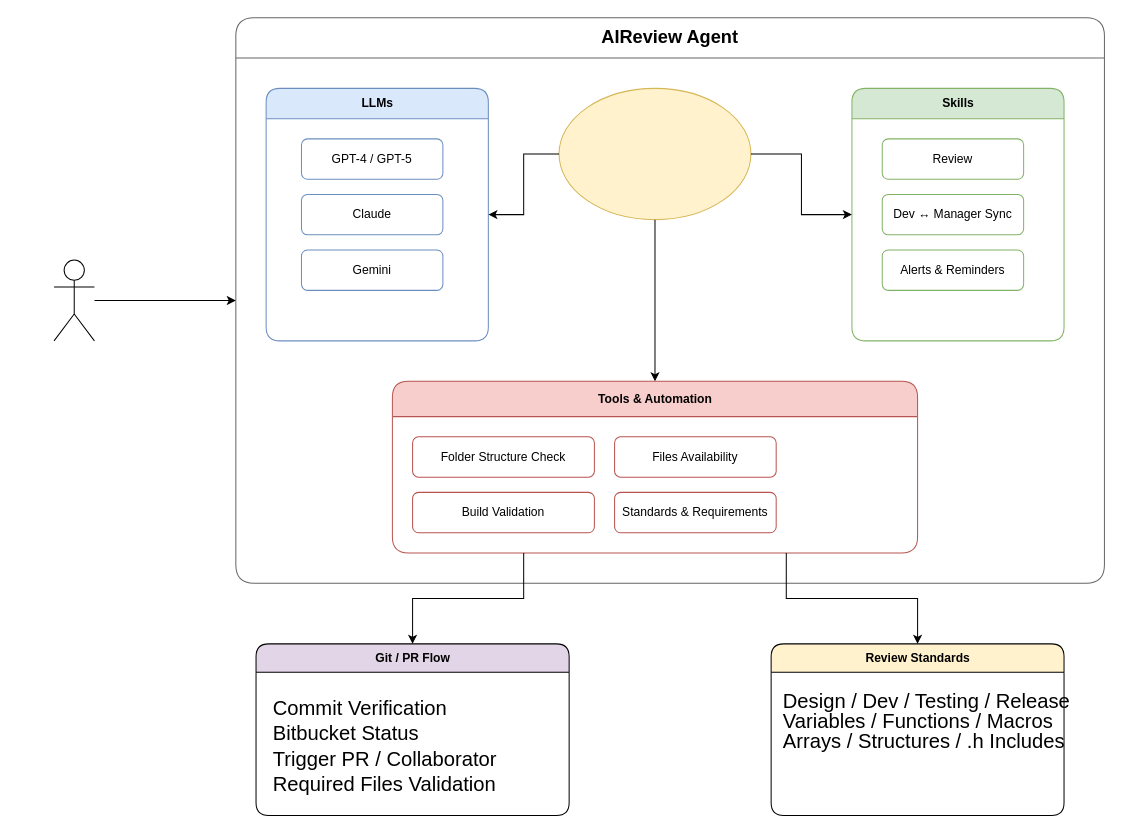
The diagram is 1122 pixels wide and 833 high, and some of its shapes have lost their labels. The centre of each missing label's shape, as x and y in pixels:
Developer / Manager: point 73,300
Reasoning Engine Decision Making Flow Control: point 654,153
